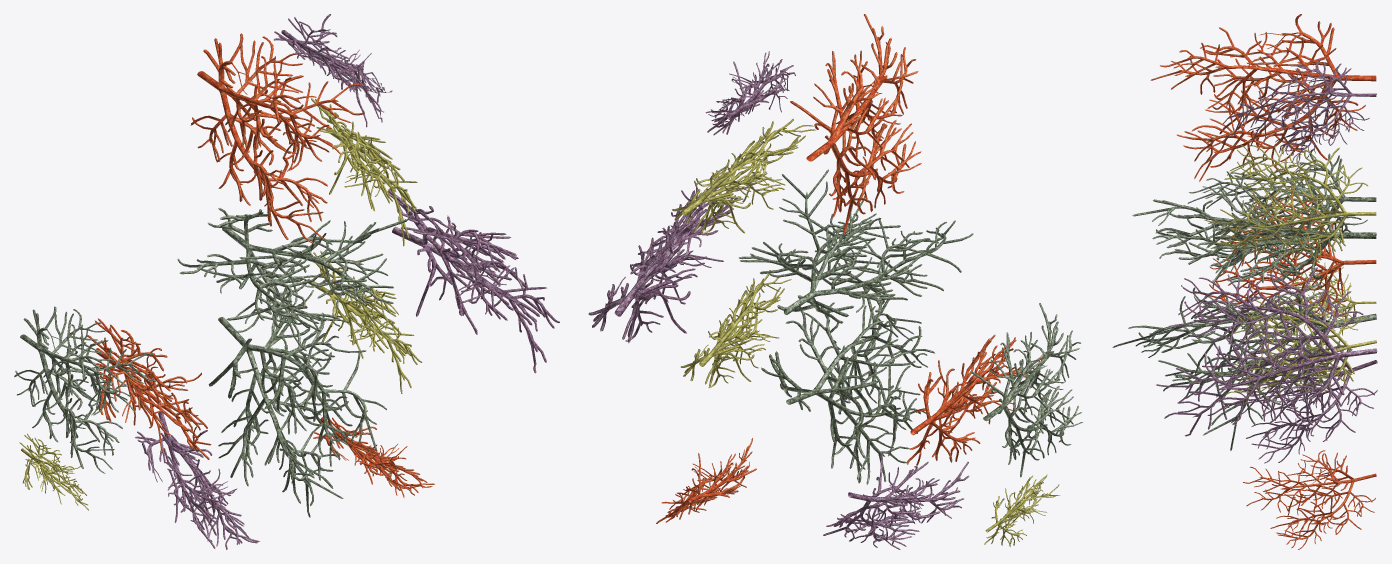
The model's file is FanCoral_Cluster_Med.fbx.
3 renders of one model, left to right at view 1: azimuth 30°, elevation 25°; view 2: azimuth 150°, elevation 25°; view 3: azimuth 270°, elevation 25°, orthographic. The views are drawn at different scales.
Parts seen in each view (by area): view 1: LOD0; view 2: LOD0; view 3: LOD0.
Boxes of the visible parts, <box> form: LOD0: <box>14,14,559,549</box>; LOD0: <box>588,14,1082,549</box>; LOD0: <box>1112,14,1377,549</box>.
Size of the model in its own units: 12.98 by 13.22 by 6.94.
